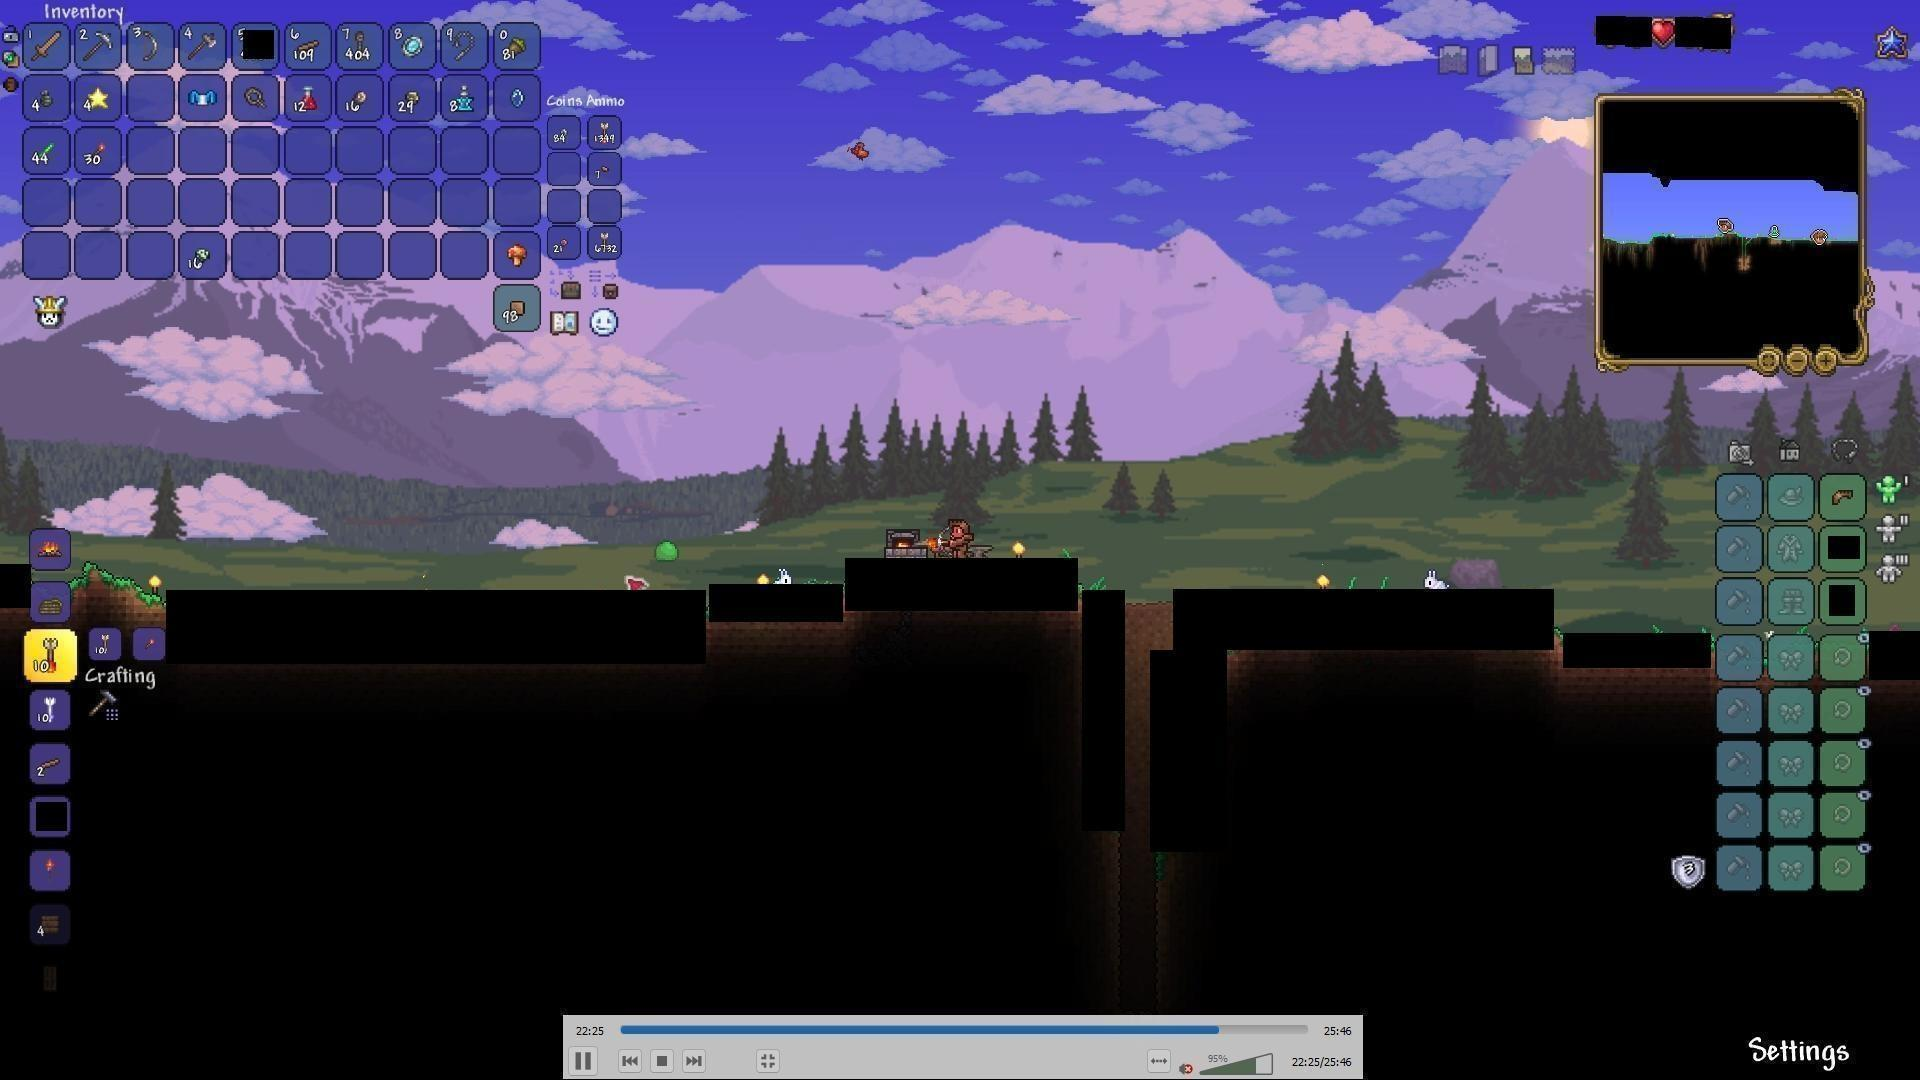dirt: (73, 559, 156, 608)
heart: (1648, 18, 1676, 47)
helmet: (1825, 481, 1859, 512)
slime: (647, 539, 683, 564)
